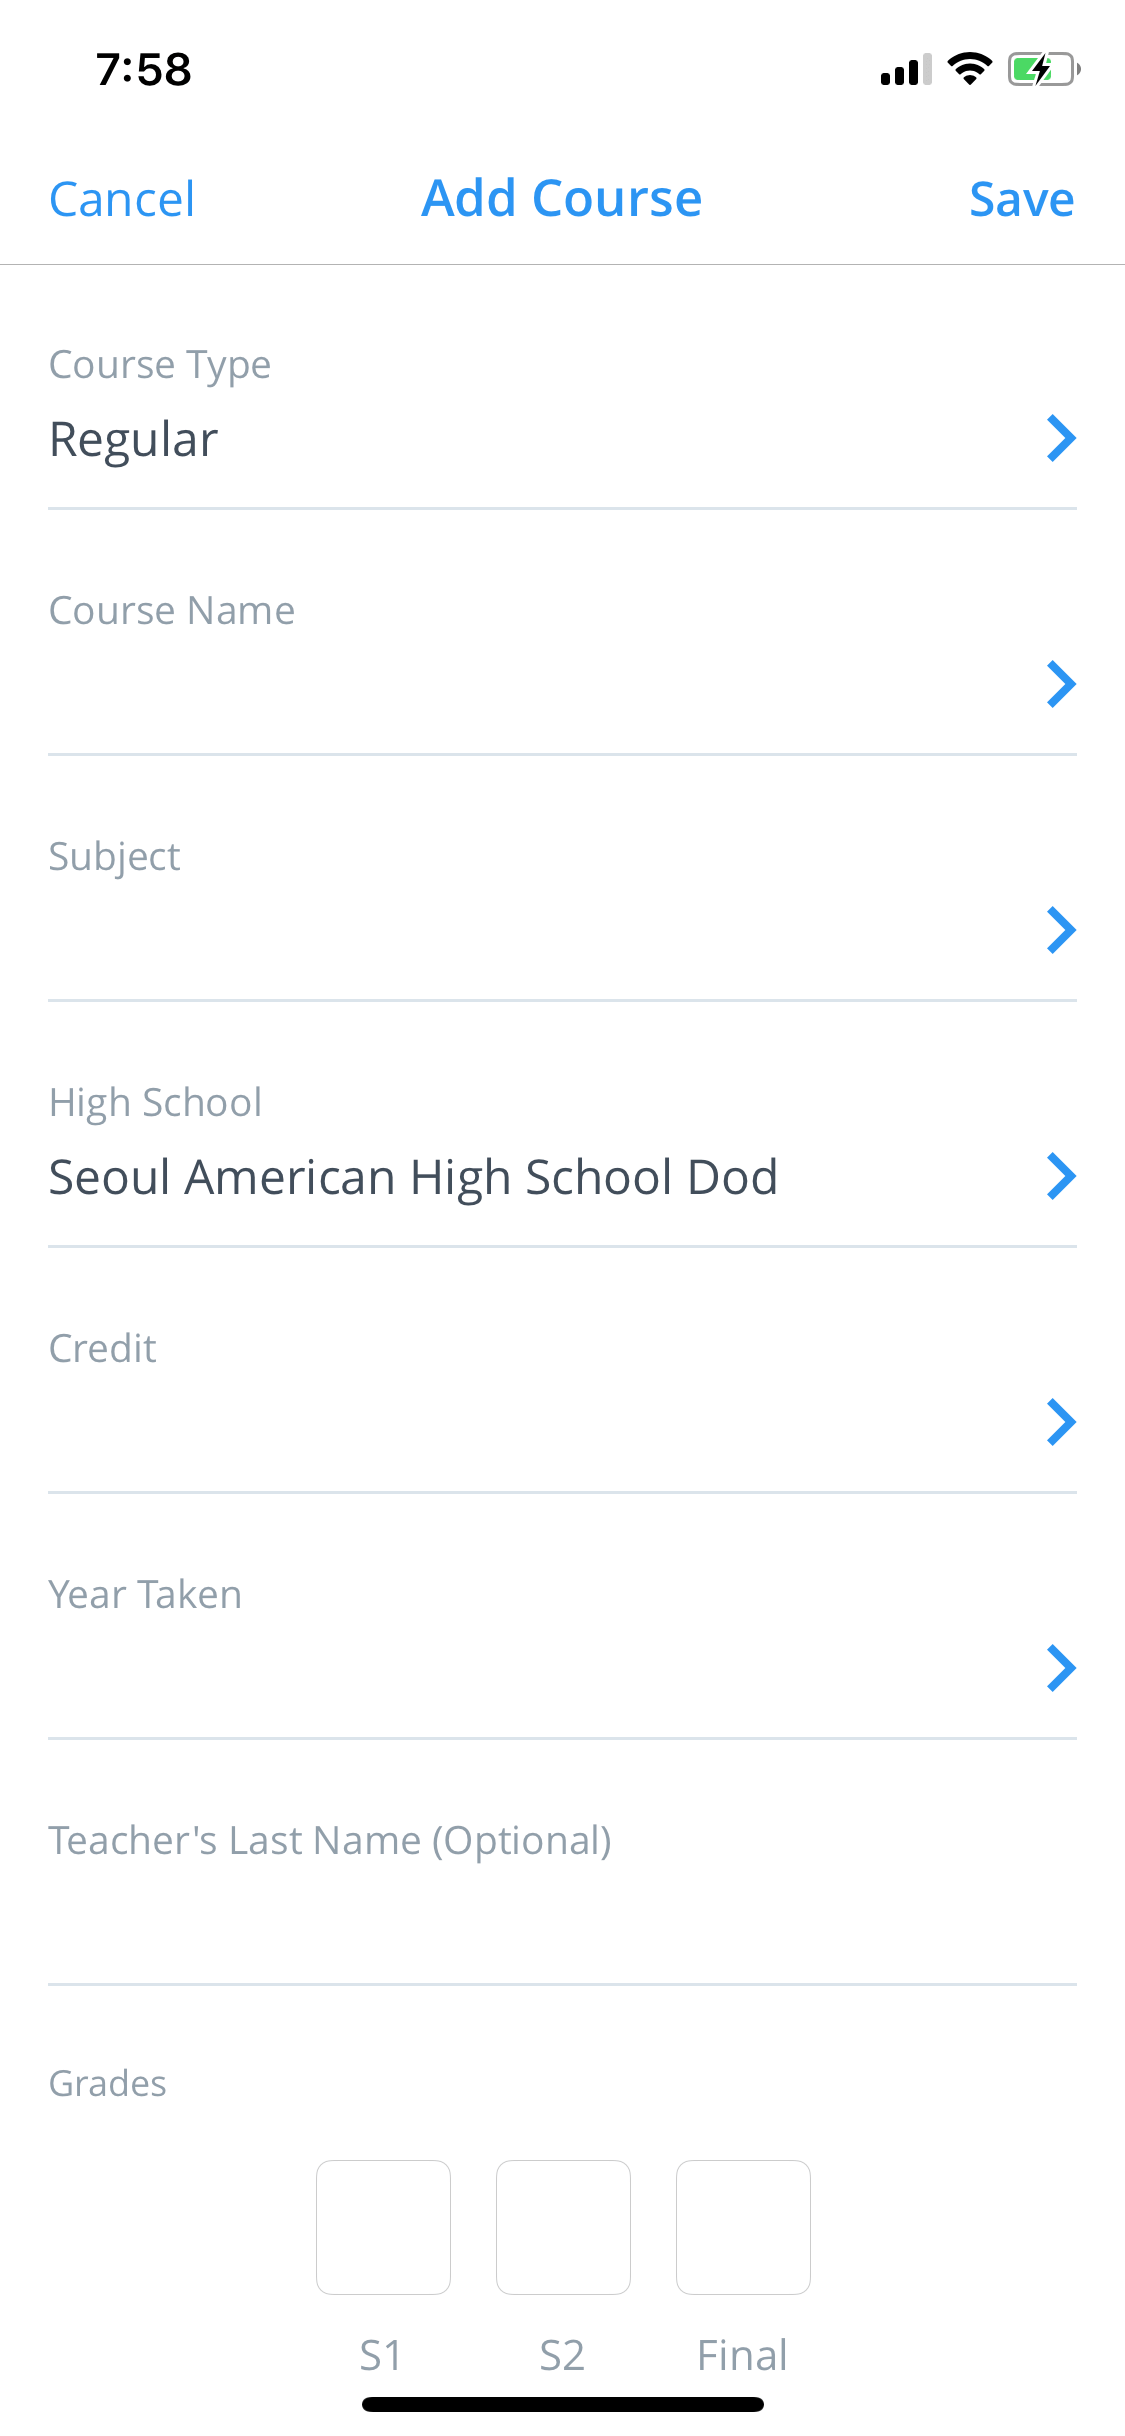Buttons: (6, 138, 232, 249), (929, 138, 1108, 247)
